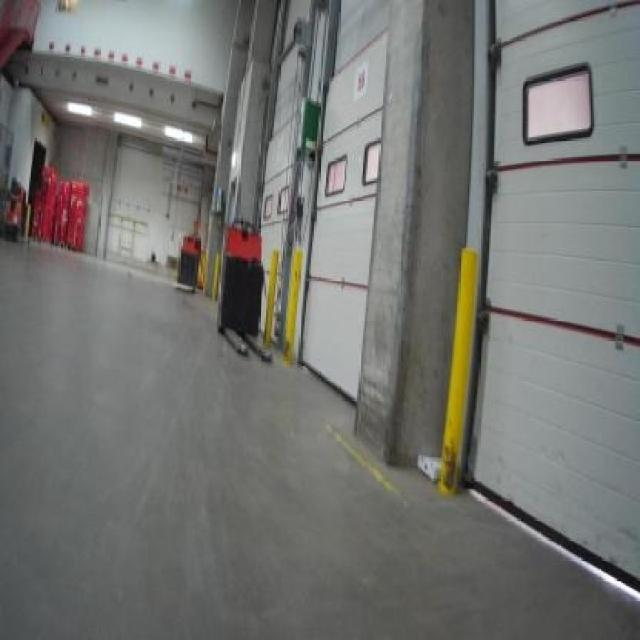floor: (0, 239, 637, 637)
